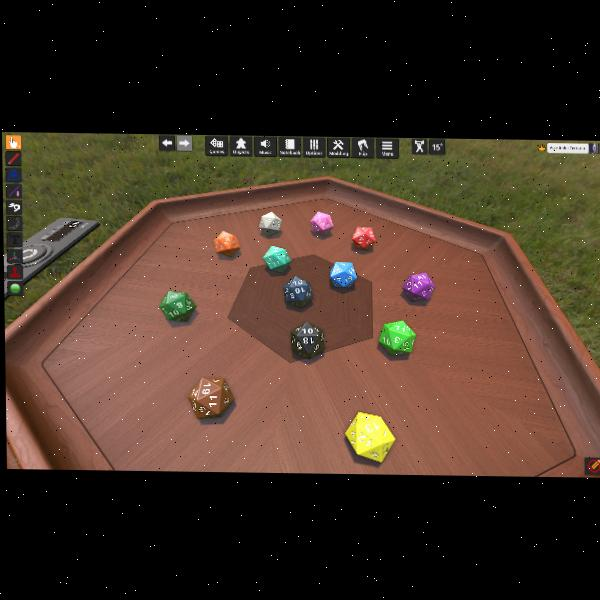d20: (346, 412, 395, 461), (188, 376, 234, 418), (378, 320, 414, 356), (289, 321, 323, 358), (159, 291, 196, 322), (402, 270, 434, 300), (281, 276, 311, 307), (264, 244, 292, 272), (329, 262, 355, 288), (214, 231, 239, 258), (352, 225, 375, 250), (259, 212, 282, 236), (311, 211, 332, 234)
